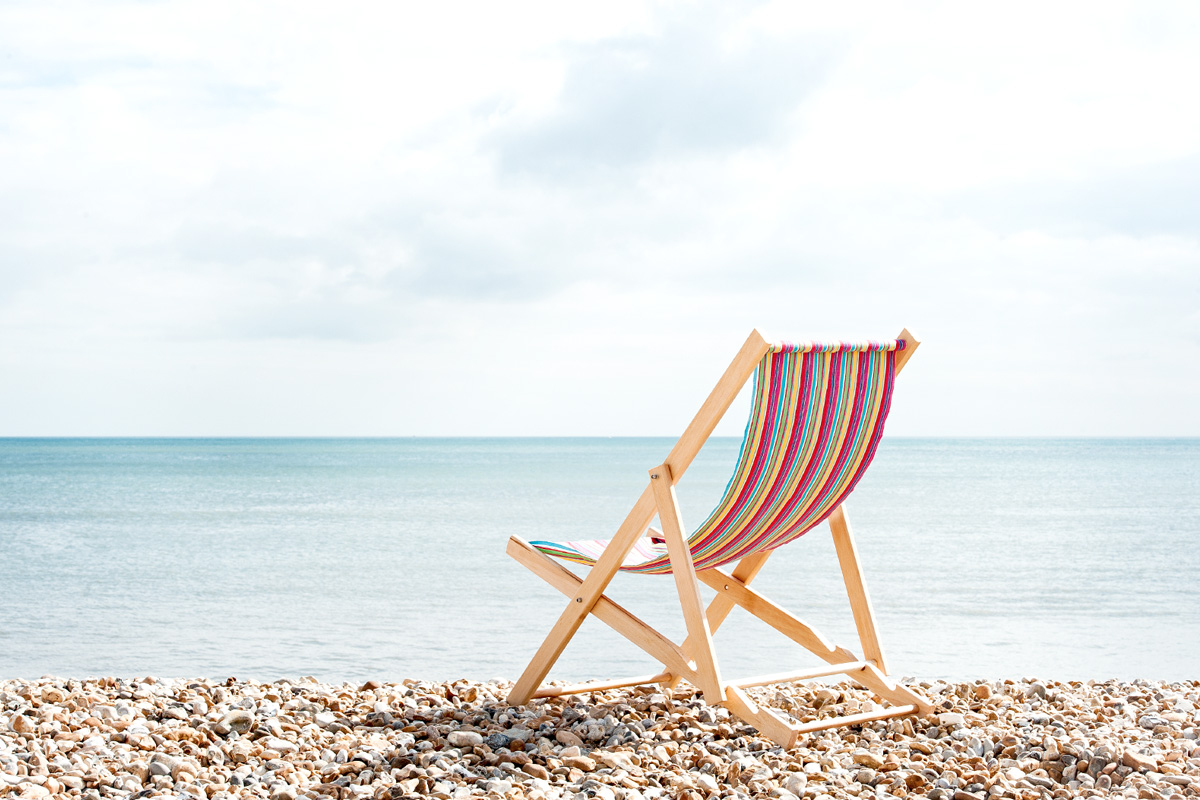chairs: (504, 332, 944, 726)
